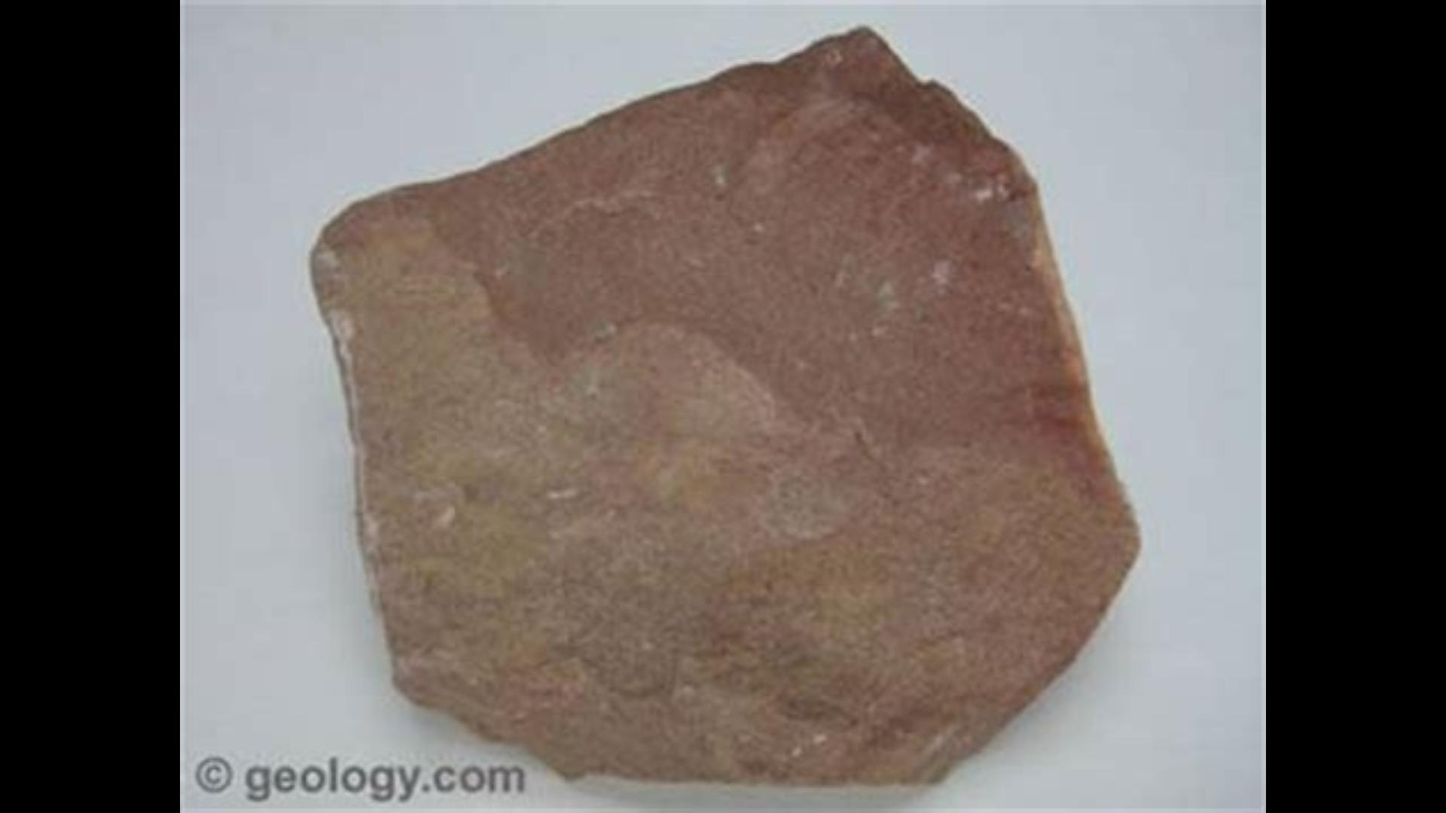rock: (315, 32, 1135, 776)
